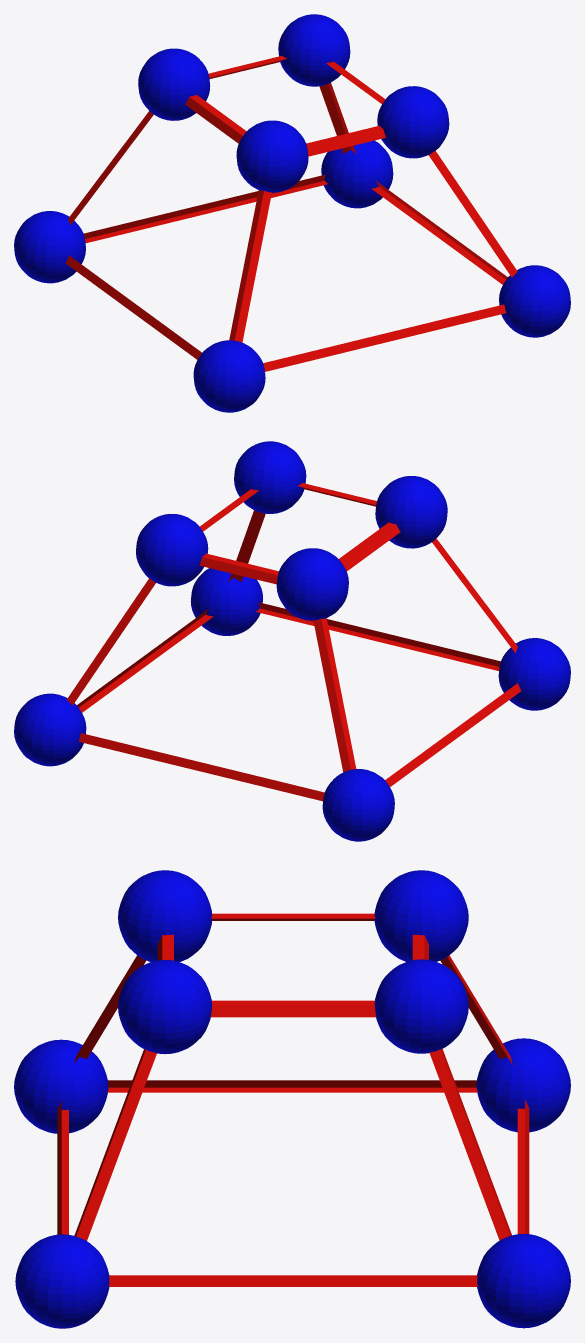
The model's file is vertice-tronco.glb.
3 renders of one model, top to bottom at view 1: azimuth 30°, elevation 25°; view 2: azimuth 150°, elevation 25°; view 3: azimuth 270°, elevation 25°, orthographic. The views are drawn at different scales.
Visible parts, largest first — view 1: Cube.001, Sphere.006, Sphere.001, Sphere, Sphere.007, Sphere.003, Sphere.005, Sphere.002, Sphere.004; view 2: Cube.001, Sphere.005, Sphere.002, Sphere.004, Sphere.003, Sphere, Sphere.006, Sphere.001, Sphere.007; view 3: Cube.001, Sphere.007, Sphere.003, Sphere.004, Sphere, Sphere.006, Sphere.005, Sphere.002, Sphere.001.
Part boxes in pixels (left/top/right/bottom): Cube.001: left=65, top=56, right=517, bottom=371; Sphere.006: left=193, top=340, right=265, bottom=412; Sphere.001: left=236, top=120, right=308, bottom=192; Sphere: left=377, top=86, right=449, bottom=158; Sphere.007: left=499, top=265, right=570, bottom=337; Sphere.003: left=278, top=14, right=350, bottom=86; Sphere.005: left=14, top=211, right=85, bottom=283; Sphere.002: left=138, top=48, right=210, bottom=120; Sphere.004: left=321, top=140, right=393, bottom=208; Cube.001: left=66, top=483, right=521, bottom=801; Sphere.005: left=322, top=769, right=394, bottom=841; Sphere.002: left=276, top=548, right=348, bottom=620; Sphere.004: left=14, top=693, right=86, bottom=766; Sphere.003: left=136, top=514, right=208, bottom=586; Sphere: left=234, top=441, right=306, bottom=513; Sphere.006: left=498, top=638, right=570, bottom=710; Sphere.001: left=375, top=476, right=447, bottom=548; Sphere.007: left=190, top=568, right=262, bottom=635; Cube.001: left=57, top=913, right=529, bottom=1286; Sphere.007: left=15, top=1234, right=109, bottom=1328; Sphere.003: left=374, top=959, right=468, bottom=1053; Sphere.004: left=477, top=1234, right=570, bottom=1328; Sphere: left=118, top=959, right=212, bottom=1054; Sphere.006: left=14, top=1039, right=108, bottom=1133; Sphere.005: left=476, top=1038, right=570, bottom=1132; Sphere.002: left=374, top=870, right=468, bottom=961; Sphere.001: left=118, top=870, right=212, bottom=961.
Bounding box in the file's own units: 2.36 × 1.44 × 2.36.
